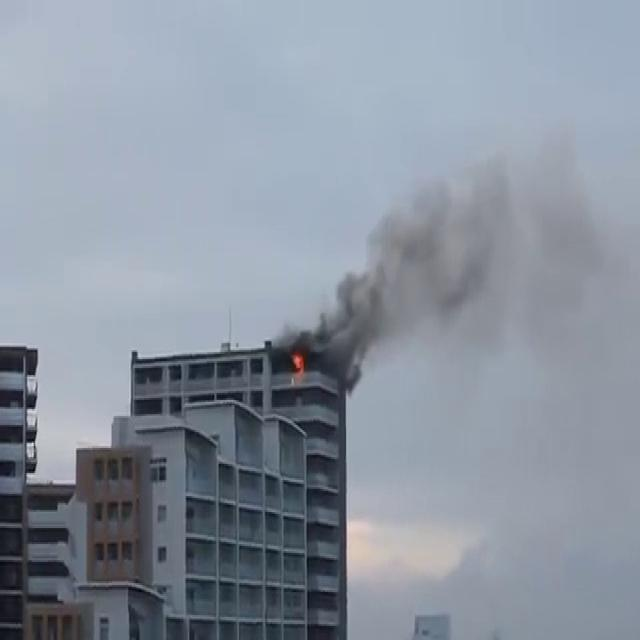Smoke: (296, 119, 602, 391)
